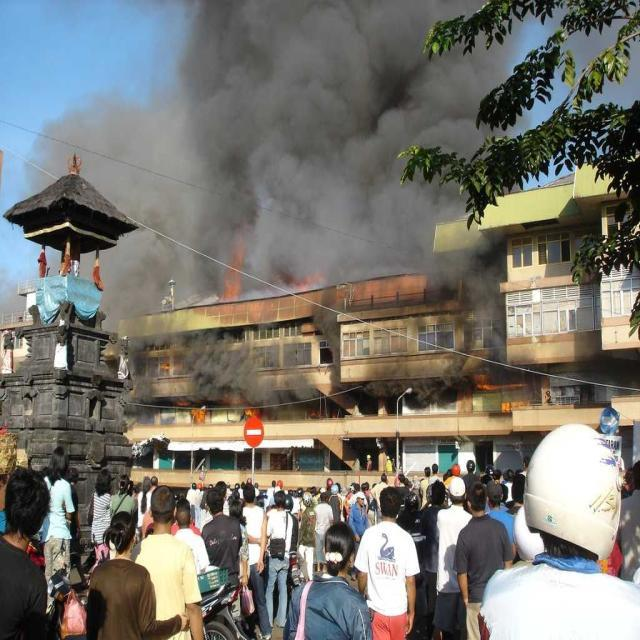Fire: (204, 261, 266, 309)
Smoke: (115, 20, 457, 254)
